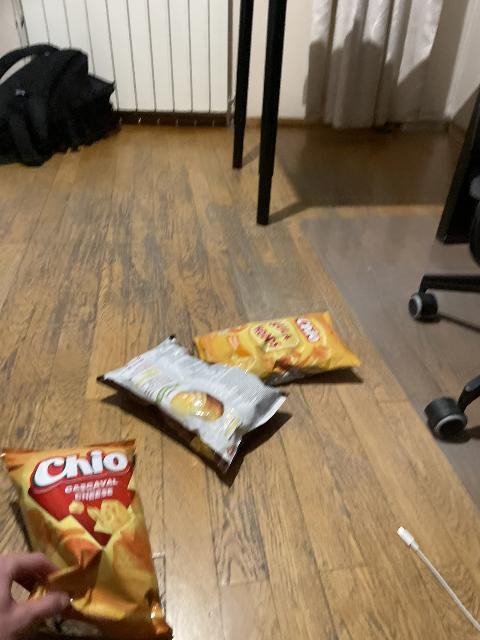Chio Cascaval 125g: (0, 438, 172, 640)
Chio Hula Hoops Cheese 70g: (197, 312, 360, 378)
Lays Beef Grilled Ribs 125g: (100, 333, 290, 473)
